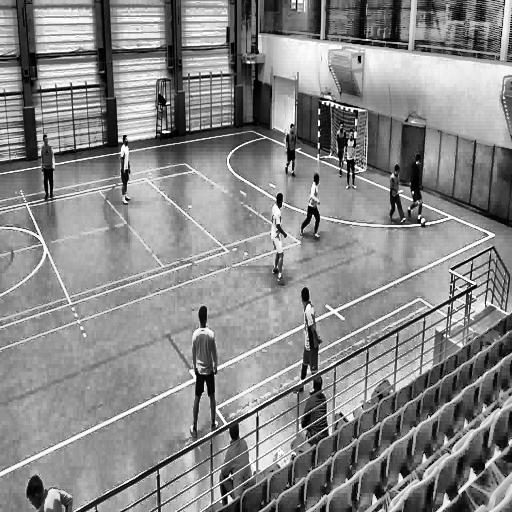ball: (420, 216, 428, 230)
player: (189, 304, 220, 441), (294, 287, 318, 394), (270, 192, 288, 292), (299, 172, 322, 242), (388, 162, 408, 227), (407, 152, 424, 224), (40, 134, 56, 204), (342, 128, 358, 193), (119, 132, 133, 206), (335, 119, 347, 178), (285, 122, 297, 178)
